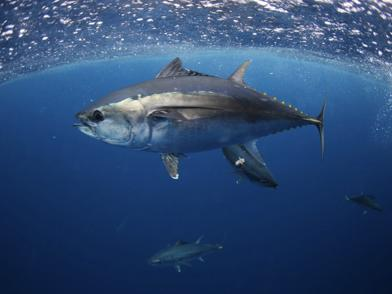Scombridae -Tunas-: (69, 53, 329, 185), (141, 230, 235, 278)
